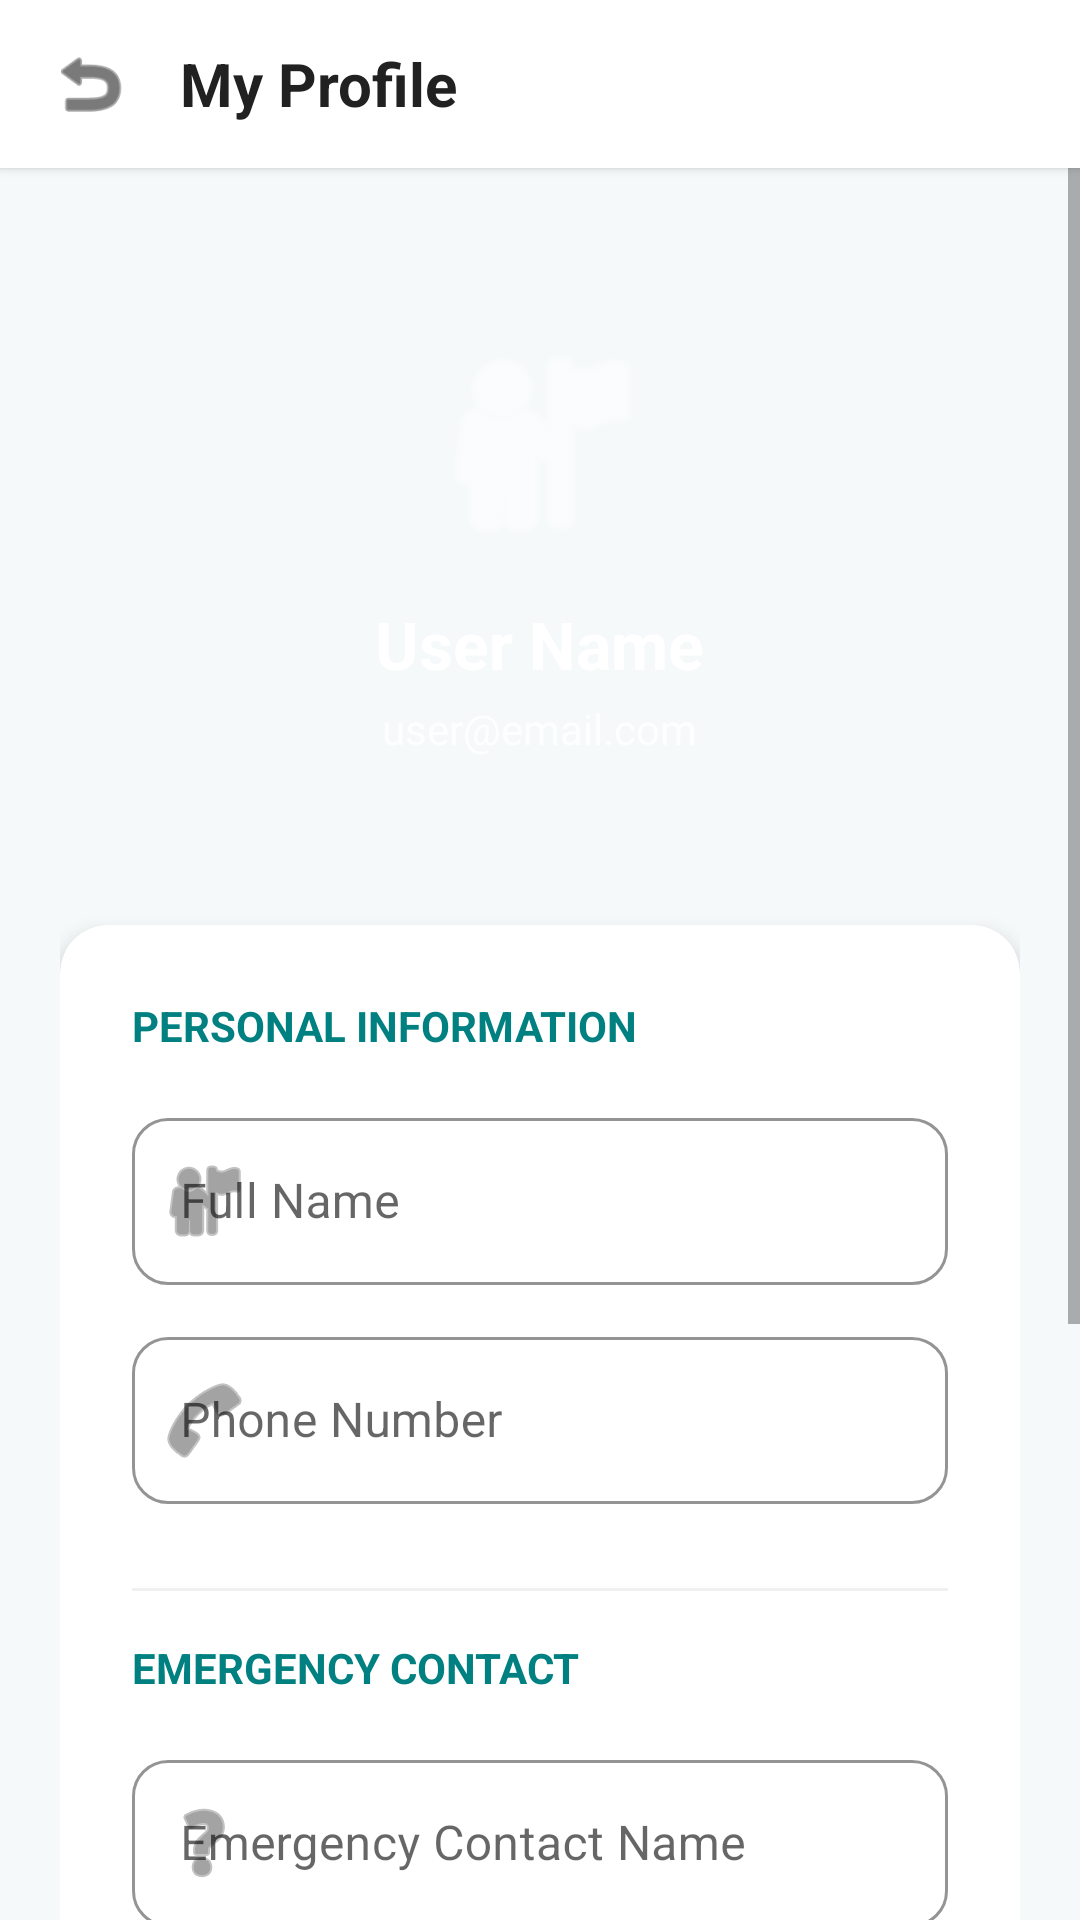

Point at icon controls on the screen. Image size 1080px x 1920px, points as (x,y).
Back: (91,84)
